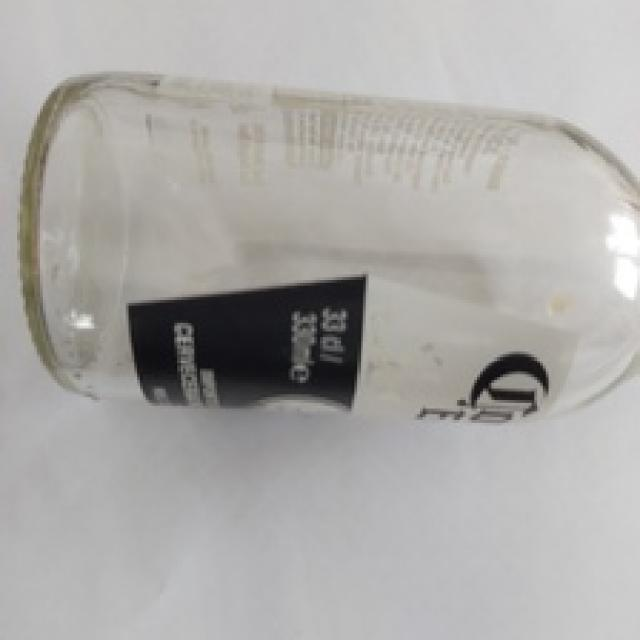glass-bottle: (8, 67, 640, 458)
